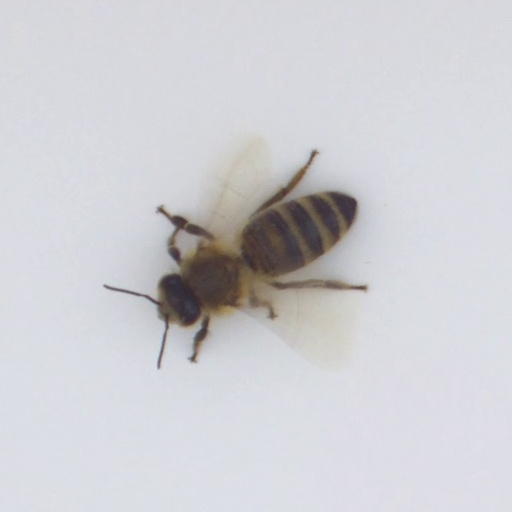Bee: (120, 158, 403, 355)
Thorax: (183, 246, 242, 312)
